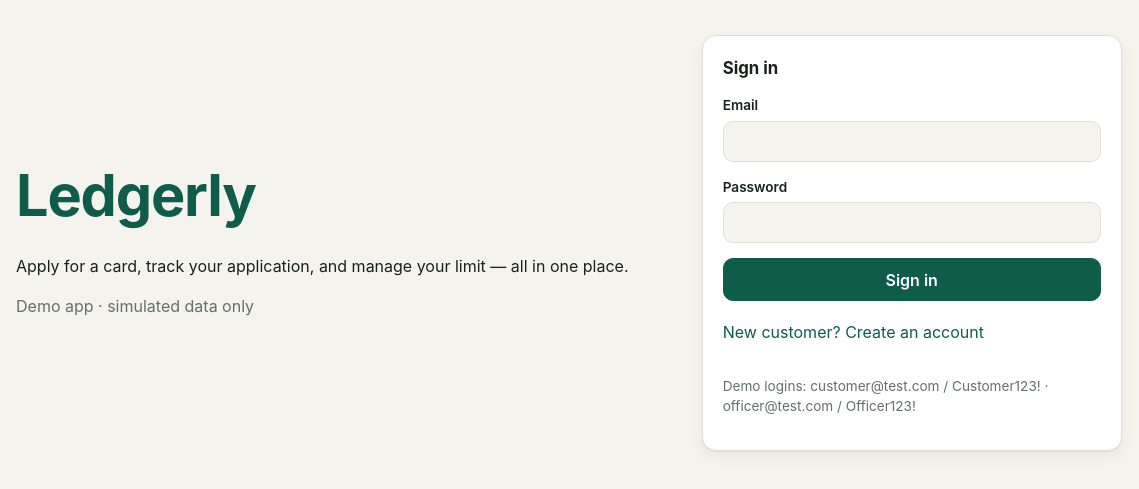
Scenario: Login › shows an error on bad credentials
The width and height of the screenshot is (1139, 489).
Type "a@test.com" into the field labelled "Email".
click(912, 141); type("a@test.com")  # box [723,121,1101,162]
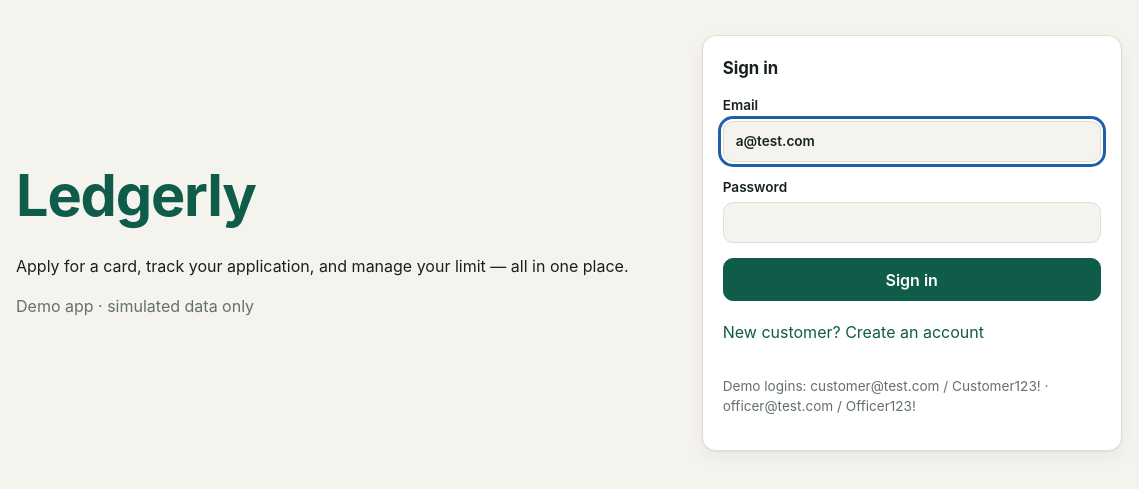
Type "nope" into the password field labelled "Password".
click(912, 223); type("nope")  # box [723,202,1101,243]
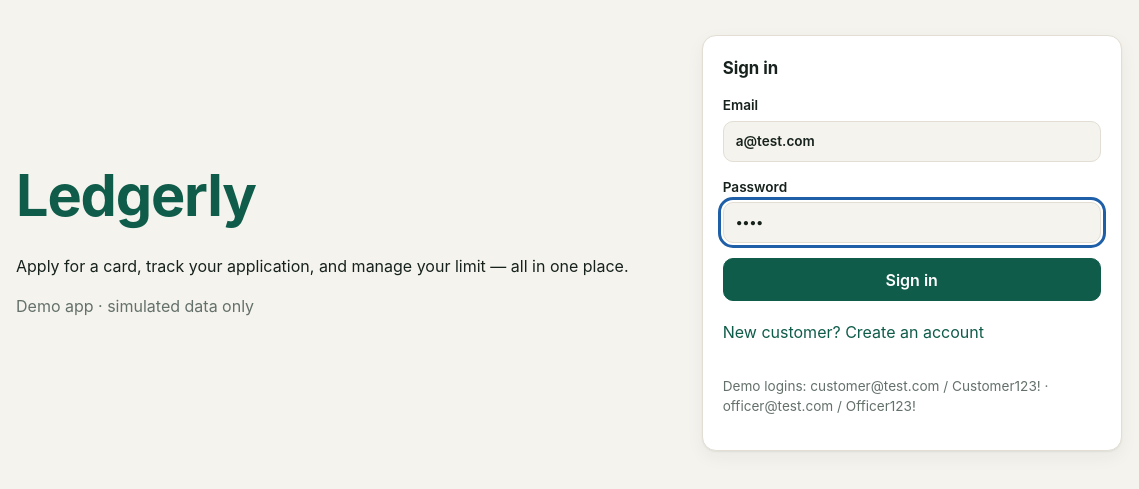
Click the button "Sign in".
click(912, 280)  # box [723,258,1101,301]
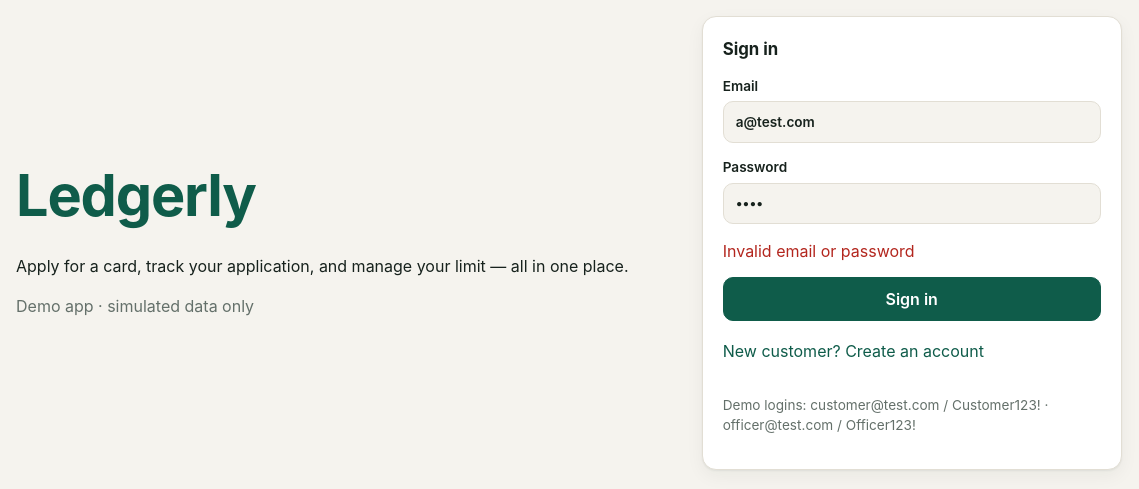
Expected: the message reads "Invalid email or password", [723,241,915,261]
